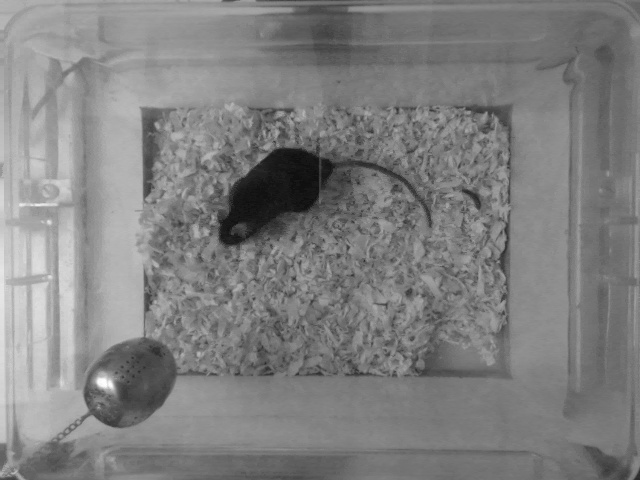mice: (215, 145, 437, 245)
